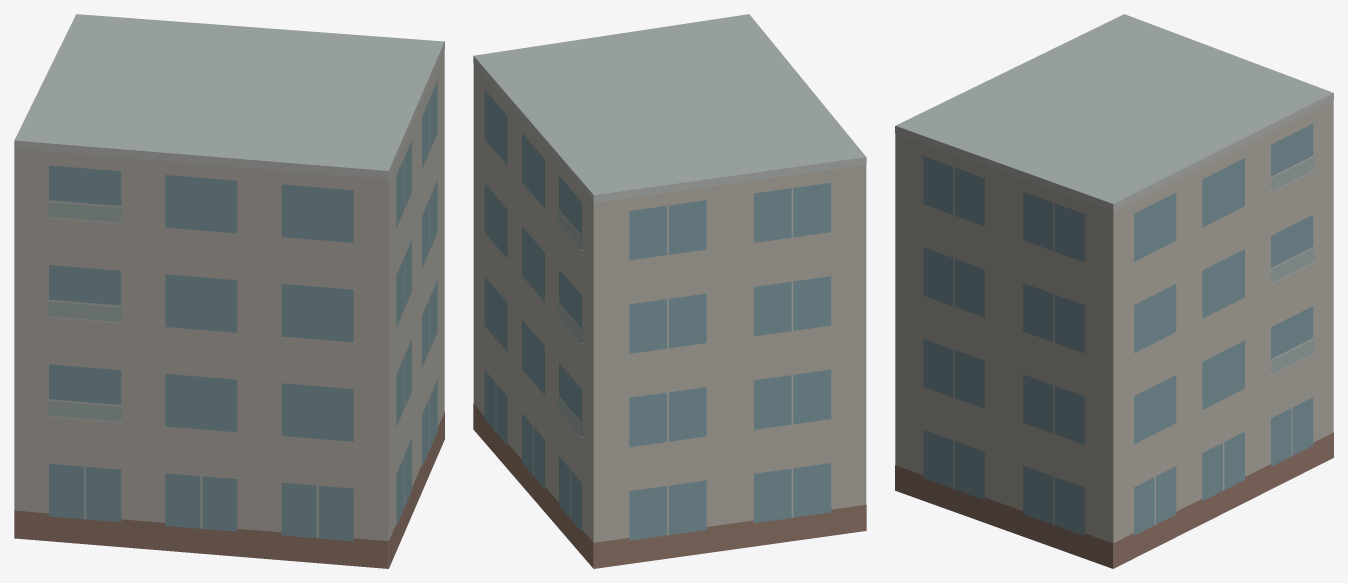
The model's file is survey-upis-32593057.glb.
3 renders of one model, left to right at view 1: azimuth 30°, elevation 25°; view 2: azimuth 150°, elevation 25°; view 3: azimuth 270°, elevation 25°, orthographic. The views are drawn at different scales.
Parts seen in each view (by area): view 1: survey-upis-32593057.tmp; view 2: survey-upis-32593057.tmp; view 3: survey-upis-32593057.tmp.
Boxes of the visible parts, left/top/right/bottom form: survey-upis-32593057.tmp: left=14, top=14, right=444, bottom=568; survey-upis-32593057.tmp: left=473, top=14, right=866, bottom=568; survey-upis-32593057.tmp: left=895, top=14, right=1333, bottom=568.
Size of the model in its own units: 13.18 by 11.8 by 12.86.
